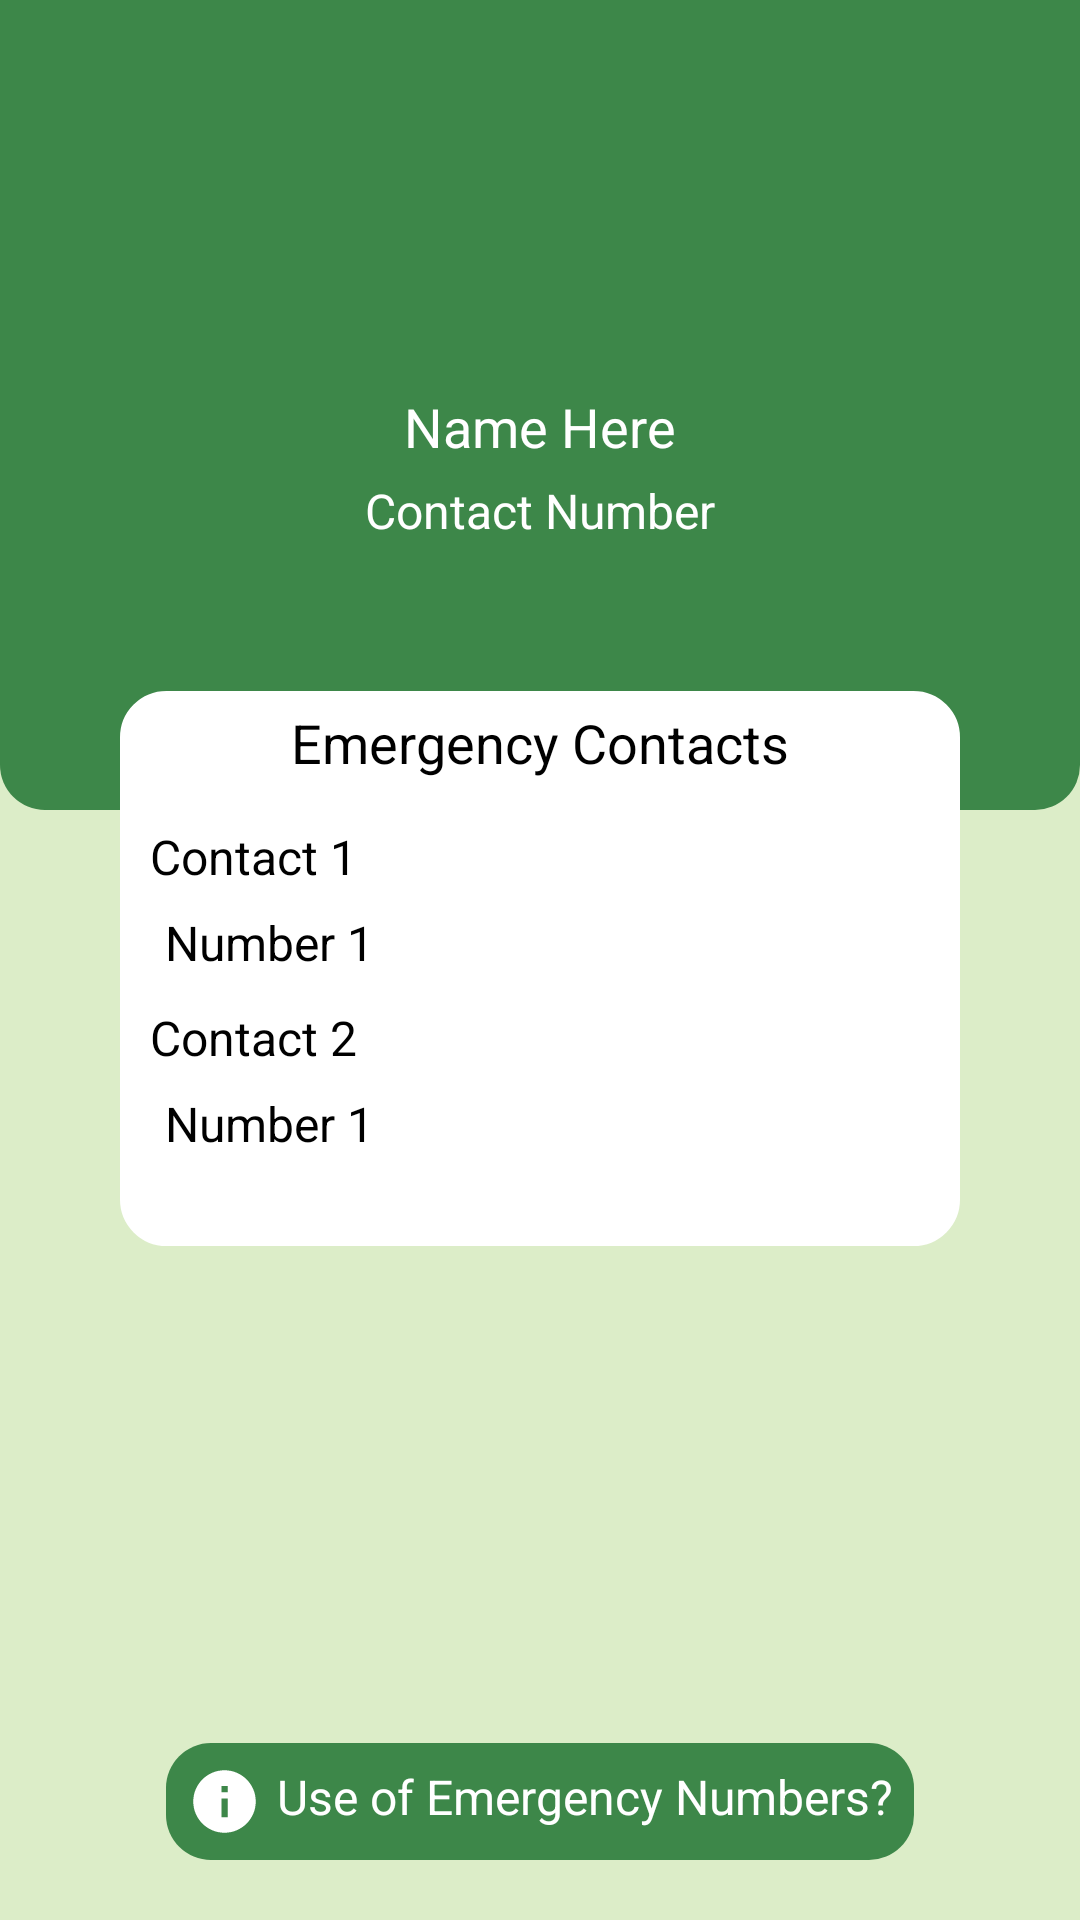

Locate icon controls on the screen. Image size 1080px x 1920px, boxes as (x1, y1, x2, y2).
info: (193, 1770, 256, 1833)
